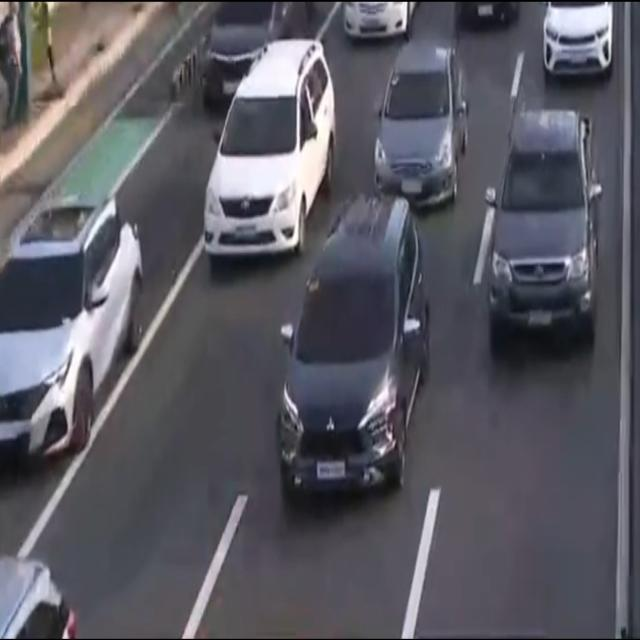SUV: (272, 195, 428, 510), (0, 157, 151, 478), (187, 28, 340, 282), (477, 93, 605, 359)
Sedan: (368, 23, 477, 221)
